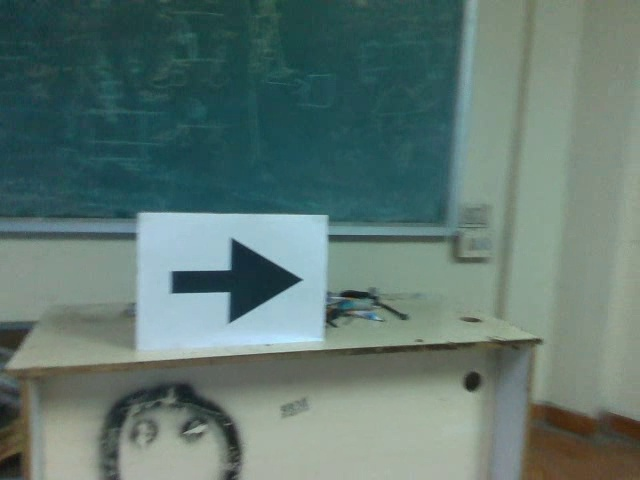Right: (160, 228, 308, 329)
